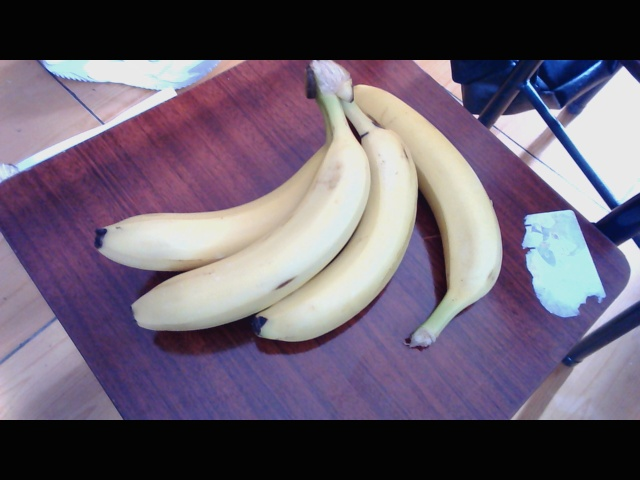banana: (112, 77, 507, 349)
